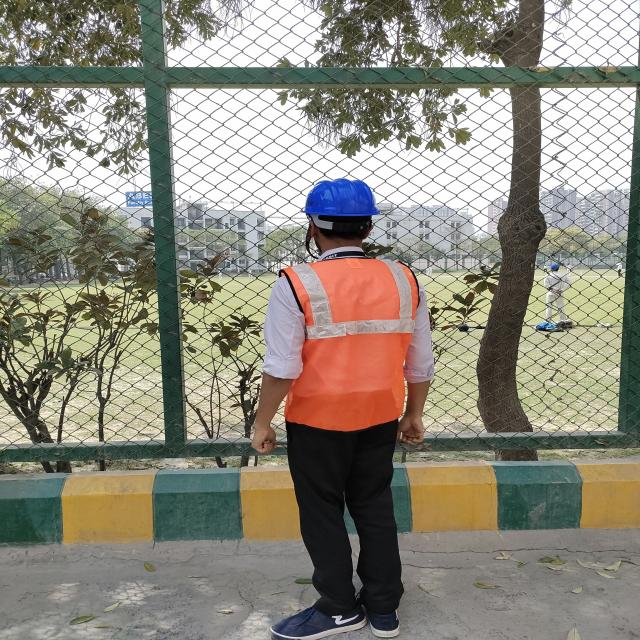safe: (263, 177, 430, 640)
unsafe: (544, 262, 570, 322)
